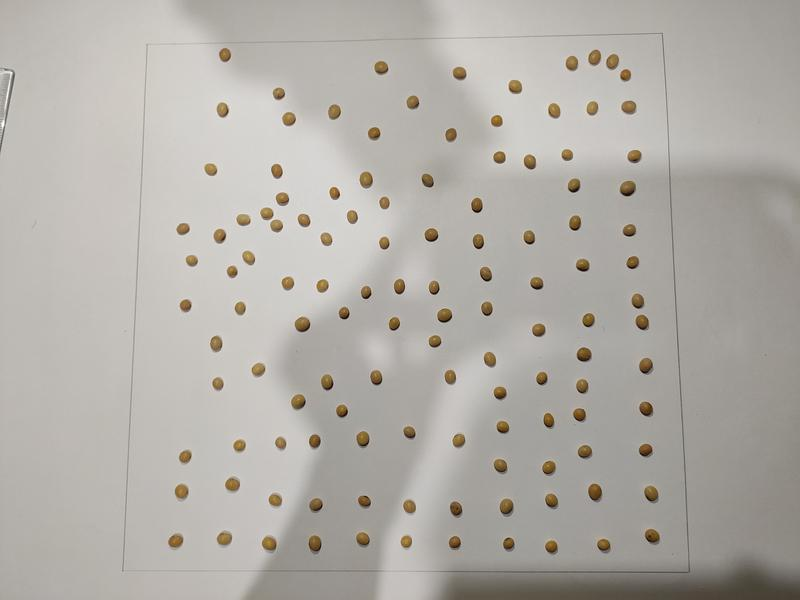Soybean: (368, 369, 387, 388), (618, 180, 639, 197), (293, 314, 311, 333), (637, 357, 656, 375), (249, 361, 267, 379), (579, 312, 597, 330), (289, 394, 308, 411), (223, 475, 242, 492), (166, 533, 186, 548), (644, 484, 659, 504), (214, 102, 232, 118), (280, 111, 298, 127), (372, 60, 390, 76), (211, 227, 227, 245), (222, 264, 240, 280), (587, 484, 603, 502), (423, 227, 441, 243), (358, 171, 373, 190), (233, 213, 252, 228), (320, 373, 335, 392), (174, 483, 189, 502), (209, 334, 223, 354), (405, 94, 421, 111), (420, 172, 436, 189), (202, 162, 219, 178), (174, 221, 191, 237), (209, 376, 226, 392), (630, 293, 646, 310), (356, 430, 370, 449), (472, 233, 486, 252), (178, 297, 194, 313), (448, 501, 464, 517), (638, 400, 654, 416), (626, 148, 642, 164), (326, 186, 343, 201), (269, 163, 284, 180), (240, 250, 257, 265), (232, 301, 249, 316), (482, 351, 497, 368), (436, 307, 453, 322), (576, 444, 593, 459), (308, 534, 322, 552), (216, 531, 234, 545), (395, 277, 408, 296), (588, 47, 601, 66), (327, 104, 342, 120), (178, 449, 193, 465), (261, 535, 276, 551), (499, 498, 514, 514), (541, 459, 557, 474), (645, 528, 660, 544), (635, 314, 650, 330), (317, 231, 333, 246), (314, 279, 331, 293), (402, 499, 416, 516), (479, 300, 493, 317), (620, 101, 638, 114), (544, 493, 559, 508), (297, 213, 312, 228), (217, 48, 233, 62), (281, 276, 295, 292), (334, 404, 350, 418), (355, 532, 371, 546), (502, 537, 518, 551), (543, 539, 559, 553), (427, 334, 443, 348), (530, 323, 546, 337), (624, 255, 640, 269), (478, 266, 492, 282), (564, 55, 578, 71), (184, 254, 201, 267), (492, 459, 509, 472), (337, 305, 350, 322), (268, 492, 283, 506), (308, 498, 323, 512), (387, 316, 401, 331), (577, 348, 591, 363), (572, 409, 587, 423), (344, 210, 358, 225), (585, 101, 599, 116), (271, 87, 287, 100), (606, 54, 619, 70), (576, 378, 588, 395), (621, 224, 638, 236), (524, 229, 535, 247), (378, 197, 392, 211), (535, 372, 549, 386), (567, 179, 581, 193), (403, 426, 418, 439), (530, 276, 545, 289), (309, 433, 321, 449), (543, 412, 555, 428), (490, 152, 506, 164), (367, 127, 381, 140), (274, 437, 287, 451), (448, 535, 461, 549), (444, 370, 457, 384), (639, 443, 652, 457), (275, 191, 289, 204), (490, 115, 504, 128), (360, 285, 372, 300), (379, 235, 389, 253), (259, 207, 274, 219), (560, 149, 575, 161), (569, 215, 581, 230), (525, 154, 536, 170), (358, 495, 371, 508), (494, 386, 507, 399), (509, 80, 522, 93), (453, 67, 466, 80), (452, 434, 466, 446), (444, 128, 456, 142), (232, 440, 247, 451), (429, 280, 440, 295), (598, 539, 610, 552), (496, 420, 508, 433), (577, 258, 590, 270), (270, 220, 283, 232), (549, 105, 560, 119), (620, 69, 632, 81), (401, 535, 412, 548), (472, 198, 482, 212)
